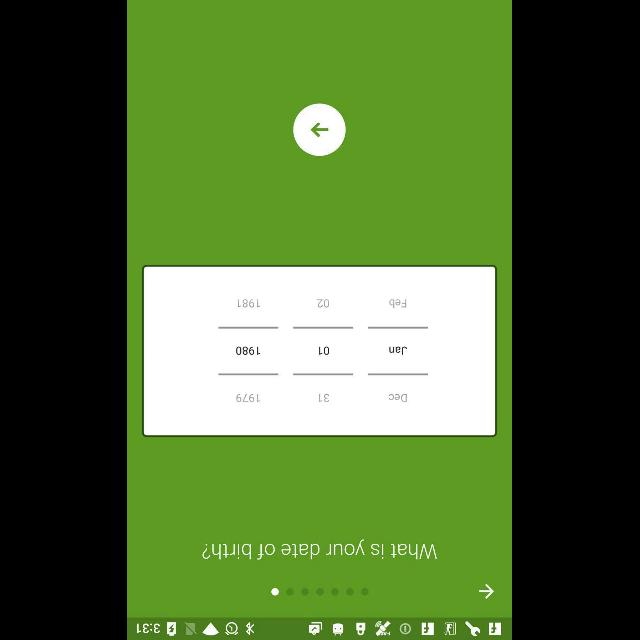button: (294, 104, 346, 156)
icon: (479, 583, 495, 599)
image: (142, 265, 498, 437)
pageindicator: (272, 588, 370, 596)
text: (202, 538, 438, 560)
uppertaskbar: (128, 617, 512, 639)
